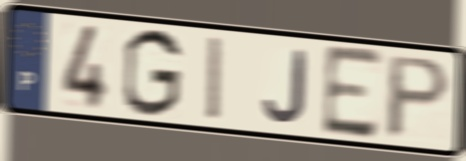4: (59, 21, 111, 113)
E: (320, 42, 386, 143)
G: (121, 25, 185, 120)
I: (205, 33, 225, 125)
J: (260, 46, 309, 126)
P: (382, 52, 454, 142)
